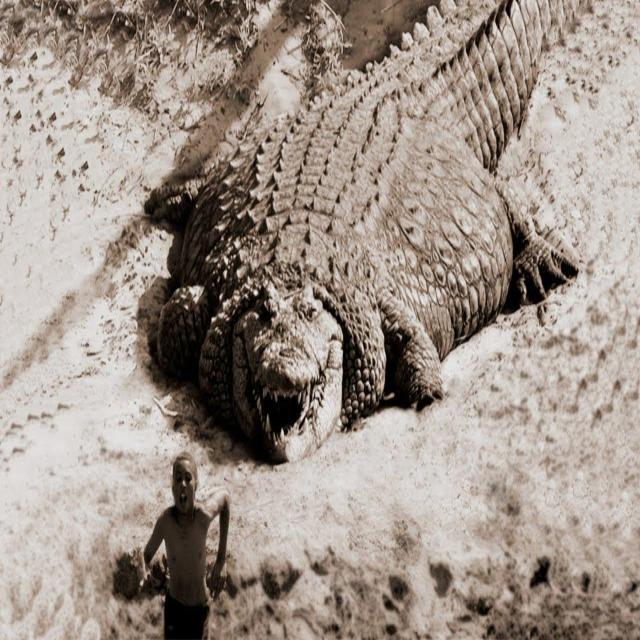crocodile: (145, 2, 583, 471)
